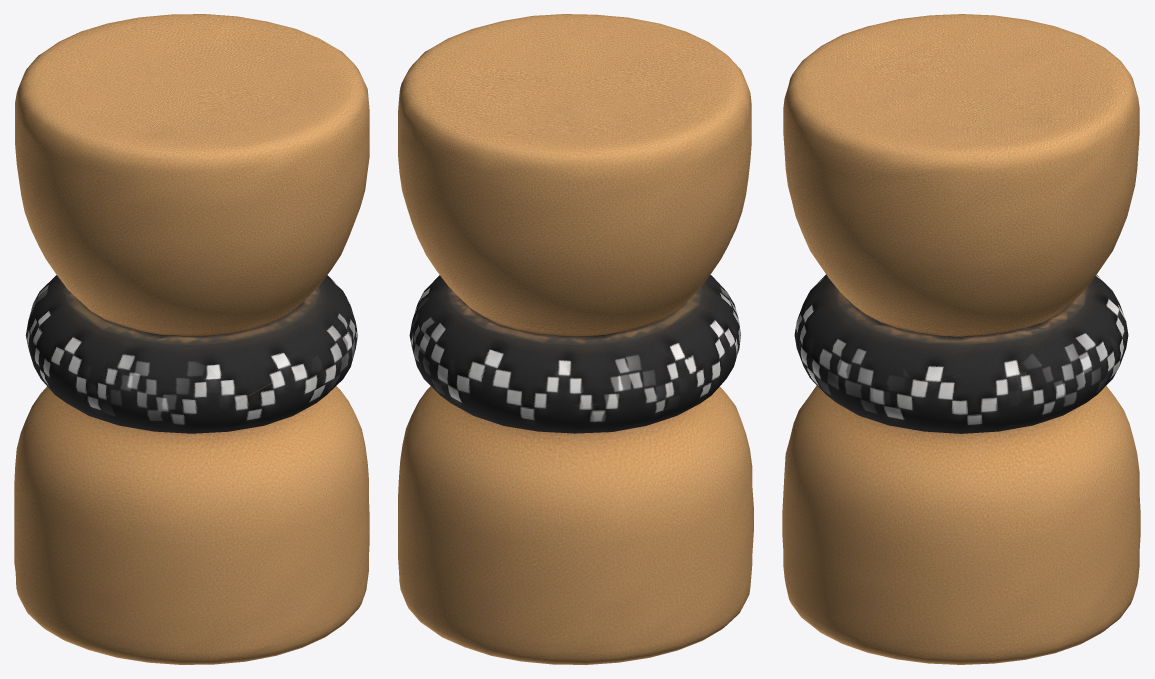
File: Varina Tall - ArrowGrumpy Black.glb
3 views of the same model, side by side, from view 1: azimuth 30°, elevation 25°; view 2: azimuth 150°, elevation 25°; view 3: azimuth 270°, elevation 25° (orthographic).
Parts seen in each view (by area): view 1: tripo_node_da5327d9-7836-4e3c-9f03-2f8f4028d472; view 2: tripo_node_da5327d9-7836-4e3c-9f03-2f8f4028d472; view 3: tripo_node_da5327d9-7836-4e3c-9f03-2f8f4028d472.
Boxes of the visible parts, box(x1,y1,x2,y2) form: tripo_node_da5327d9-7836-4e3c-9f03-2f8f4028d472: box(14, 14, 369, 664); tripo_node_da5327d9-7836-4e3c-9f03-2f8f4028d472: box(398, 14, 753, 664); tripo_node_da5327d9-7836-4e3c-9f03-2f8f4028d472: box(782, 14, 1140, 664).
Bounding box in the file's own units: 0.6309 × 0.998 × 0.6309.
1 material, 1 textured.
